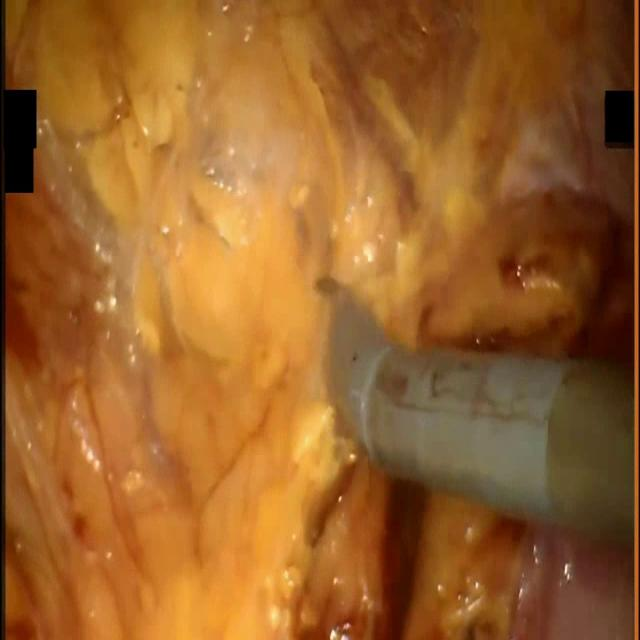surgical-area: (2, 0, 638, 639)
surgical-tool: (320, 280, 635, 545)
